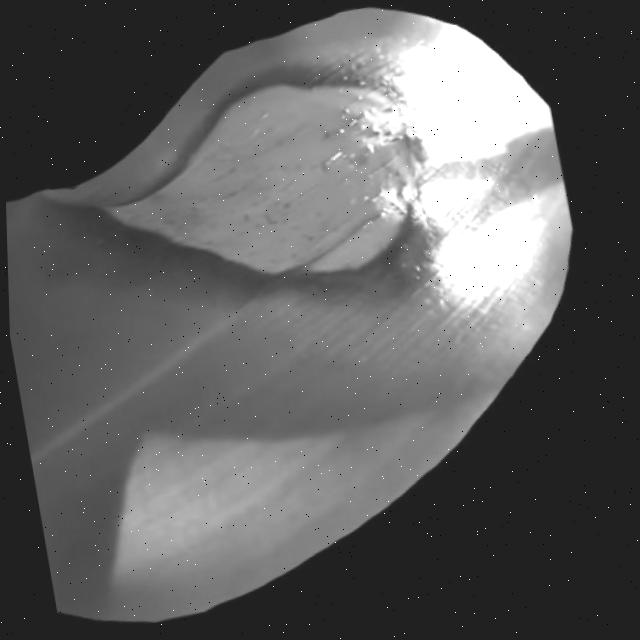mite: (406, 143, 560, 317), (409, 131, 568, 254), (309, 108, 381, 182)
spots: (2, 0, 625, 639)
sunburn: (74, 36, 457, 350)
